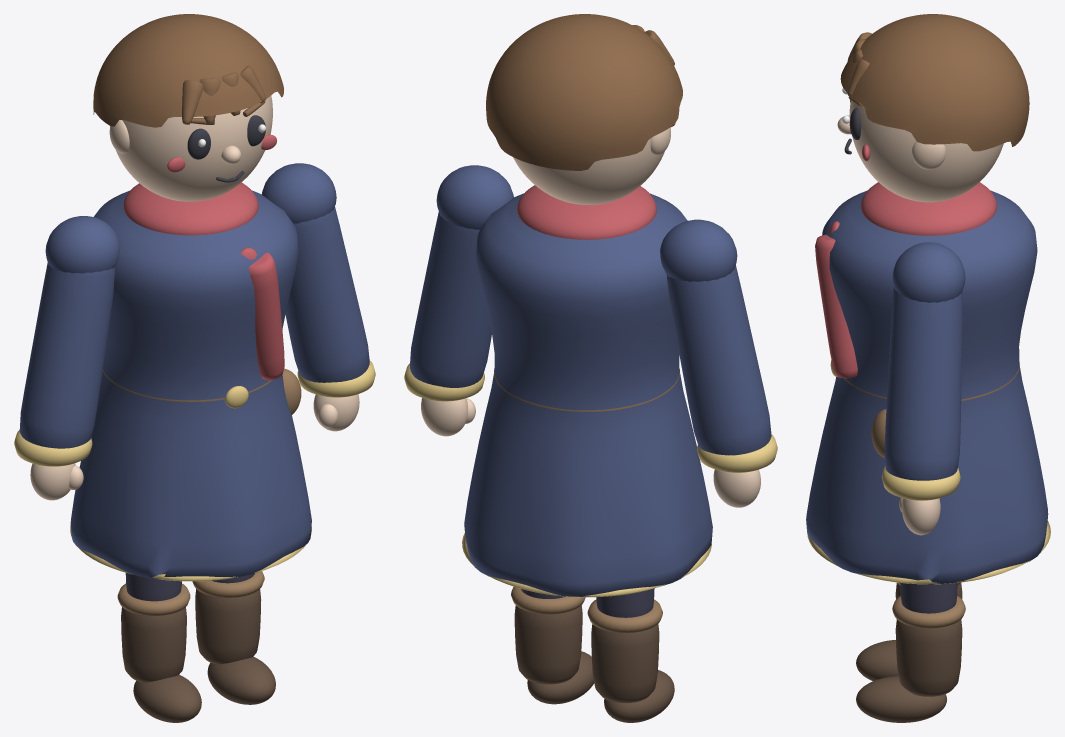
Rendered from alley-apprentice.glb.
The picture shows the model from 3 angles, left to right: view 1: azimuth 30°, elevation 25°; view 2: azimuth 150°, elevation 25°; view 3: azimuth 270°, elevation 25°; orthographic projection. The views are drawn at different scales.
Visible parts, largest first — view 1: TORSO, HEAD, ARM_L, ARM_R, LEG_L, LEG_R; view 2: TORSO, HEAD, ARM_L, ARM_R, LEG_L, LEG_R; view 3: TORSO, HEAD, ARM_R, LEG_R, LEG_L.
Part boxes in pixels (x1,y1,x2,y2): TORSO: (70, 182, 311, 581); HEAD: (93, 14, 283, 201); ARM_L: (14, 216, 120, 500); ARM_R: (261, 163, 375, 431); LEG_L: (117, 573, 201, 722); LEG_R: (192, 571, 275, 704); TORSO: (462, 185, 712, 597); HEAD: (486, 14, 682, 204); ARM_L: (660, 219, 777, 507); ARM_R: (404, 165, 513, 436); LEG_L: (587, 588, 674, 722); LEG_R: (511, 587, 594, 704); TORSO: (806, 182, 1050, 584); HEAD: (837, 14, 1029, 202); ARM_R: (881, 242, 965, 535); LEG_R: (856, 583, 965, 722); LEG_L: (856, 582, 962, 681).
Size of the model in its own units: 1.04 by 1.91 by 0.6242.
Materials: 1 (1 with a texture image).
